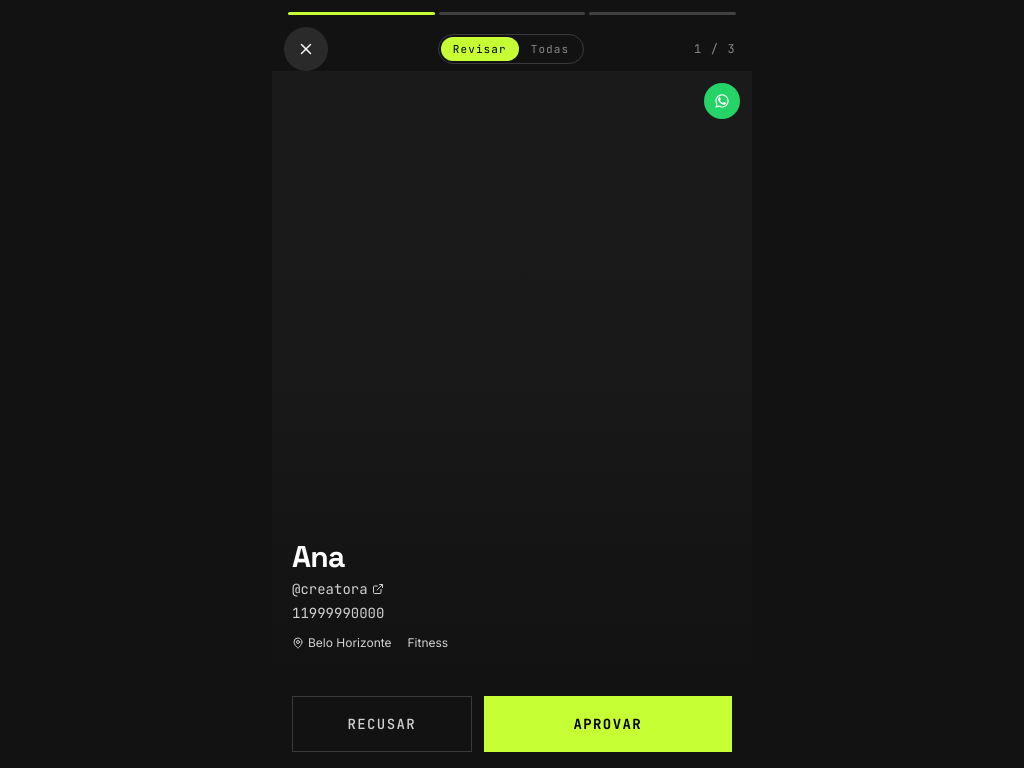
Test: CampaignPipelineMobileStory — navegação › avança e volta pelas zonas de toque das laterais
This screenshot has width=1024, height=768.
Check: the heading "Ana" is shown, box [292,536,345,576]
Click the button named "Próximo candidato" at (632, 371), box [512,71,752,671]
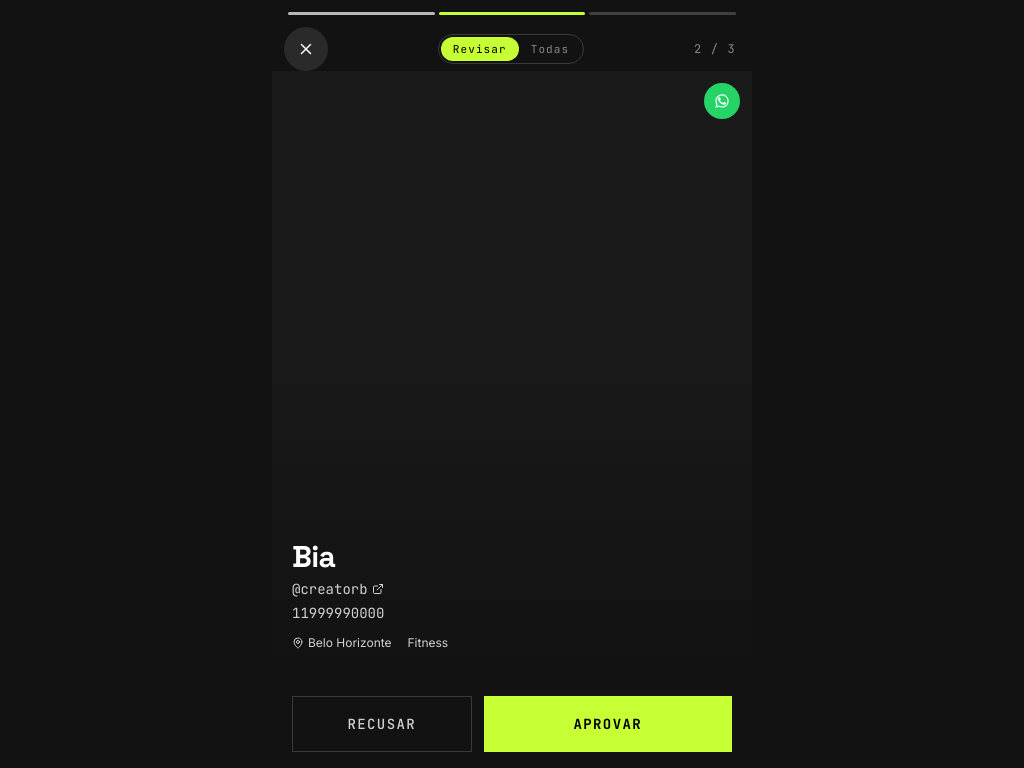
Check: the heading "Bia" is shown, box [292,536,335,576]
Check: the text "2 / 3" is shown, box [694,41,736,57]
Click the button named "Candidato anterior" at (392, 371), box [272,71,512,671]
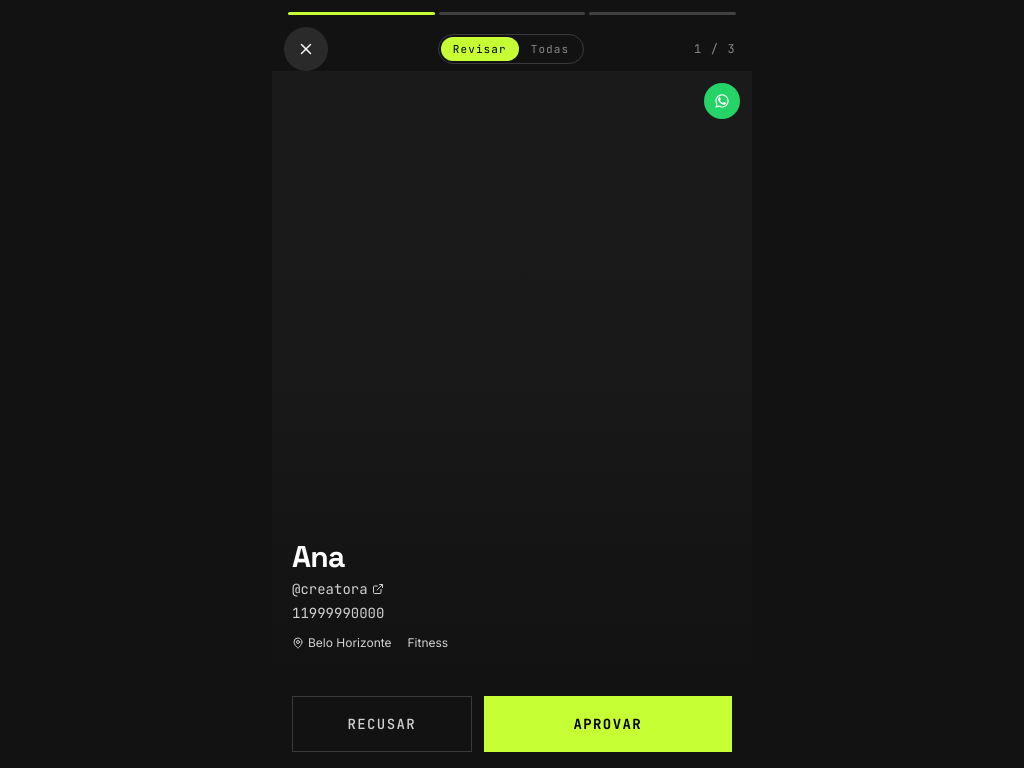
Check: the heading "Ana" is shown, box [292,536,345,576]
Check: the text "1 / 3" is shown, box [694,41,736,57]
